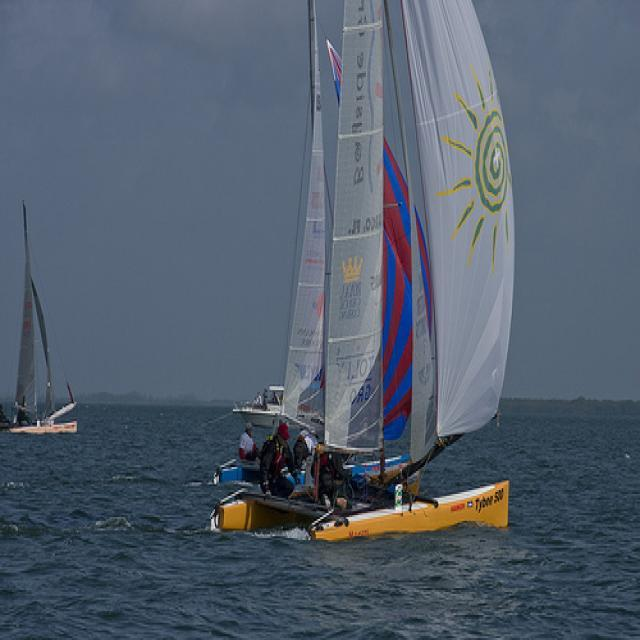Ship: (233, 1, 524, 539), (1, 193, 96, 455)
